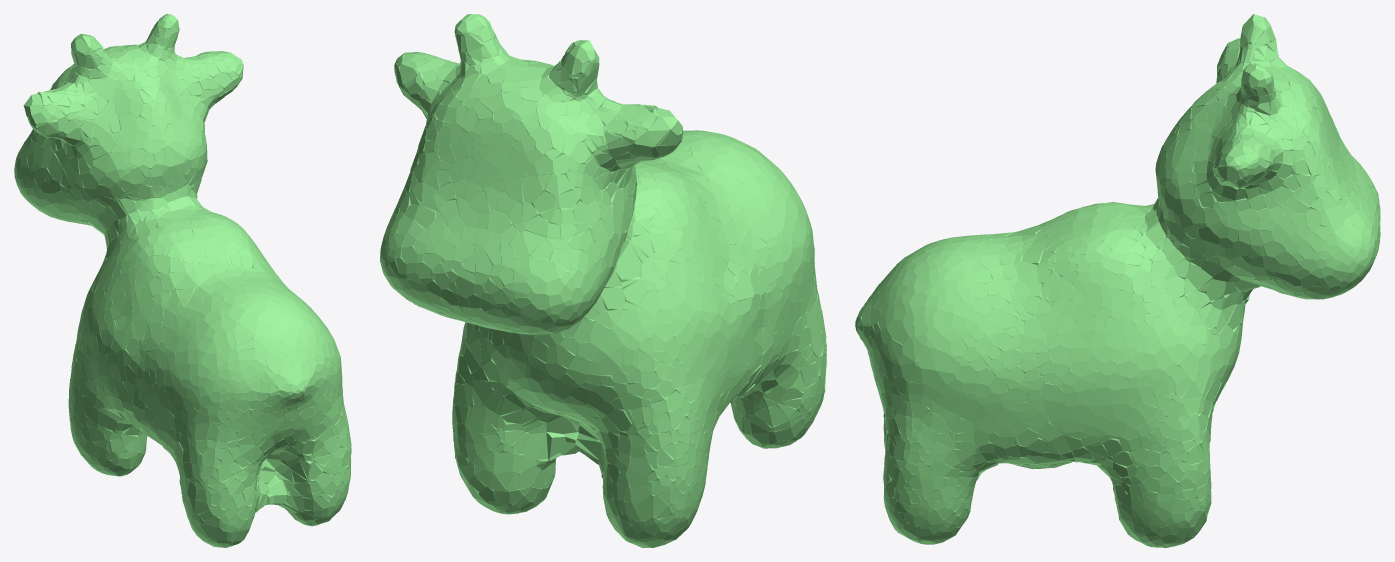
Rendered from cow_0.1pct_vorolight.glb.
3 views of the same model, side by side, from view 1: azimuth 30°, elevation 25°; view 2: azimuth 150°, elevation 25°; view 3: azimuth 270°, elevation 25° (orthographic). The views are drawn at different scales.
Visible parts, largest first — view 1: shape50_normal10_cow_noise_0.1pct_polygon.obj; view 2: shape50_normal10_cow_noise_0.1pct_polygon.obj; view 3: shape50_normal10_cow_noise_0.1pct_polygon.obj.
Boxes of the visible parts, bbox=[...] form: shape50_normal10_cow_noise_0.1pct_polygon.obj: bbox=[14, 14, 351, 547]; shape50_normal10_cow_noise_0.1pct_polygon.obj: bbox=[380, 14, 826, 547]; shape50_normal10_cow_noise_0.1pct_polygon.obj: bbox=[855, 14, 1380, 547].
Bounding box in the file's own units: 0.7551 × 1.37 × 1.37.
